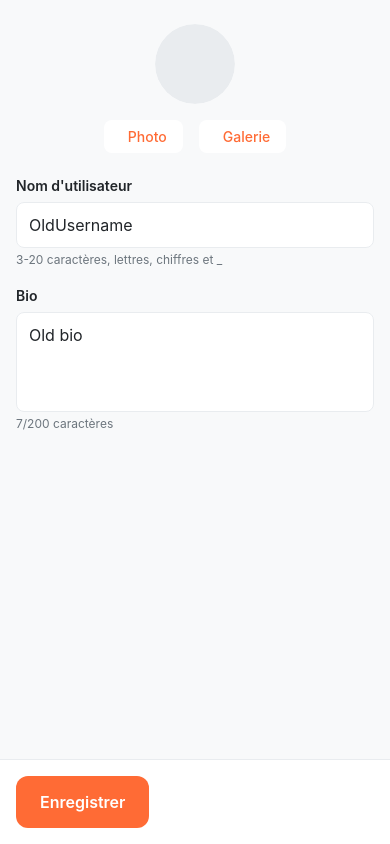
Scenario: EditProfileScreen › shows validation error for username too short
Step 1. Replace the text in the field with test id "username-input" with "ab" → (195, 225), box [16,202,374,248]
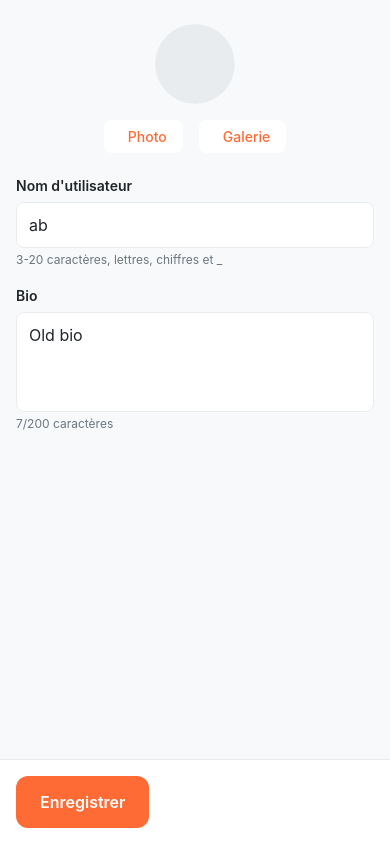
Step 2. Click the element with test id "save-button" → (83, 802), box [16,776,149,828]
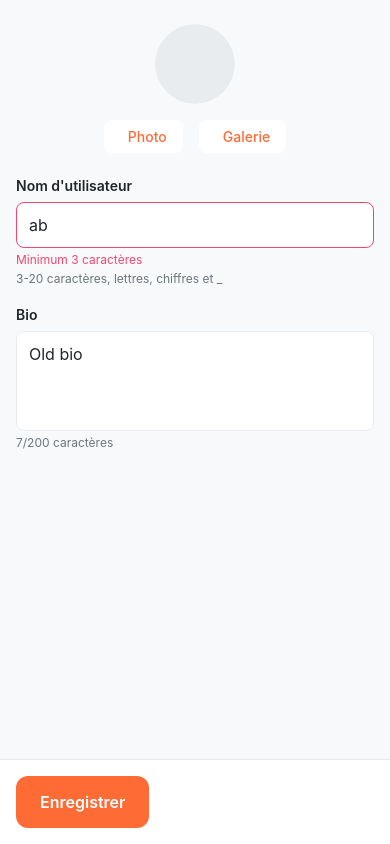
Expected: the text "Minimum 3 caractères" is shown, [16,252,142,267]
